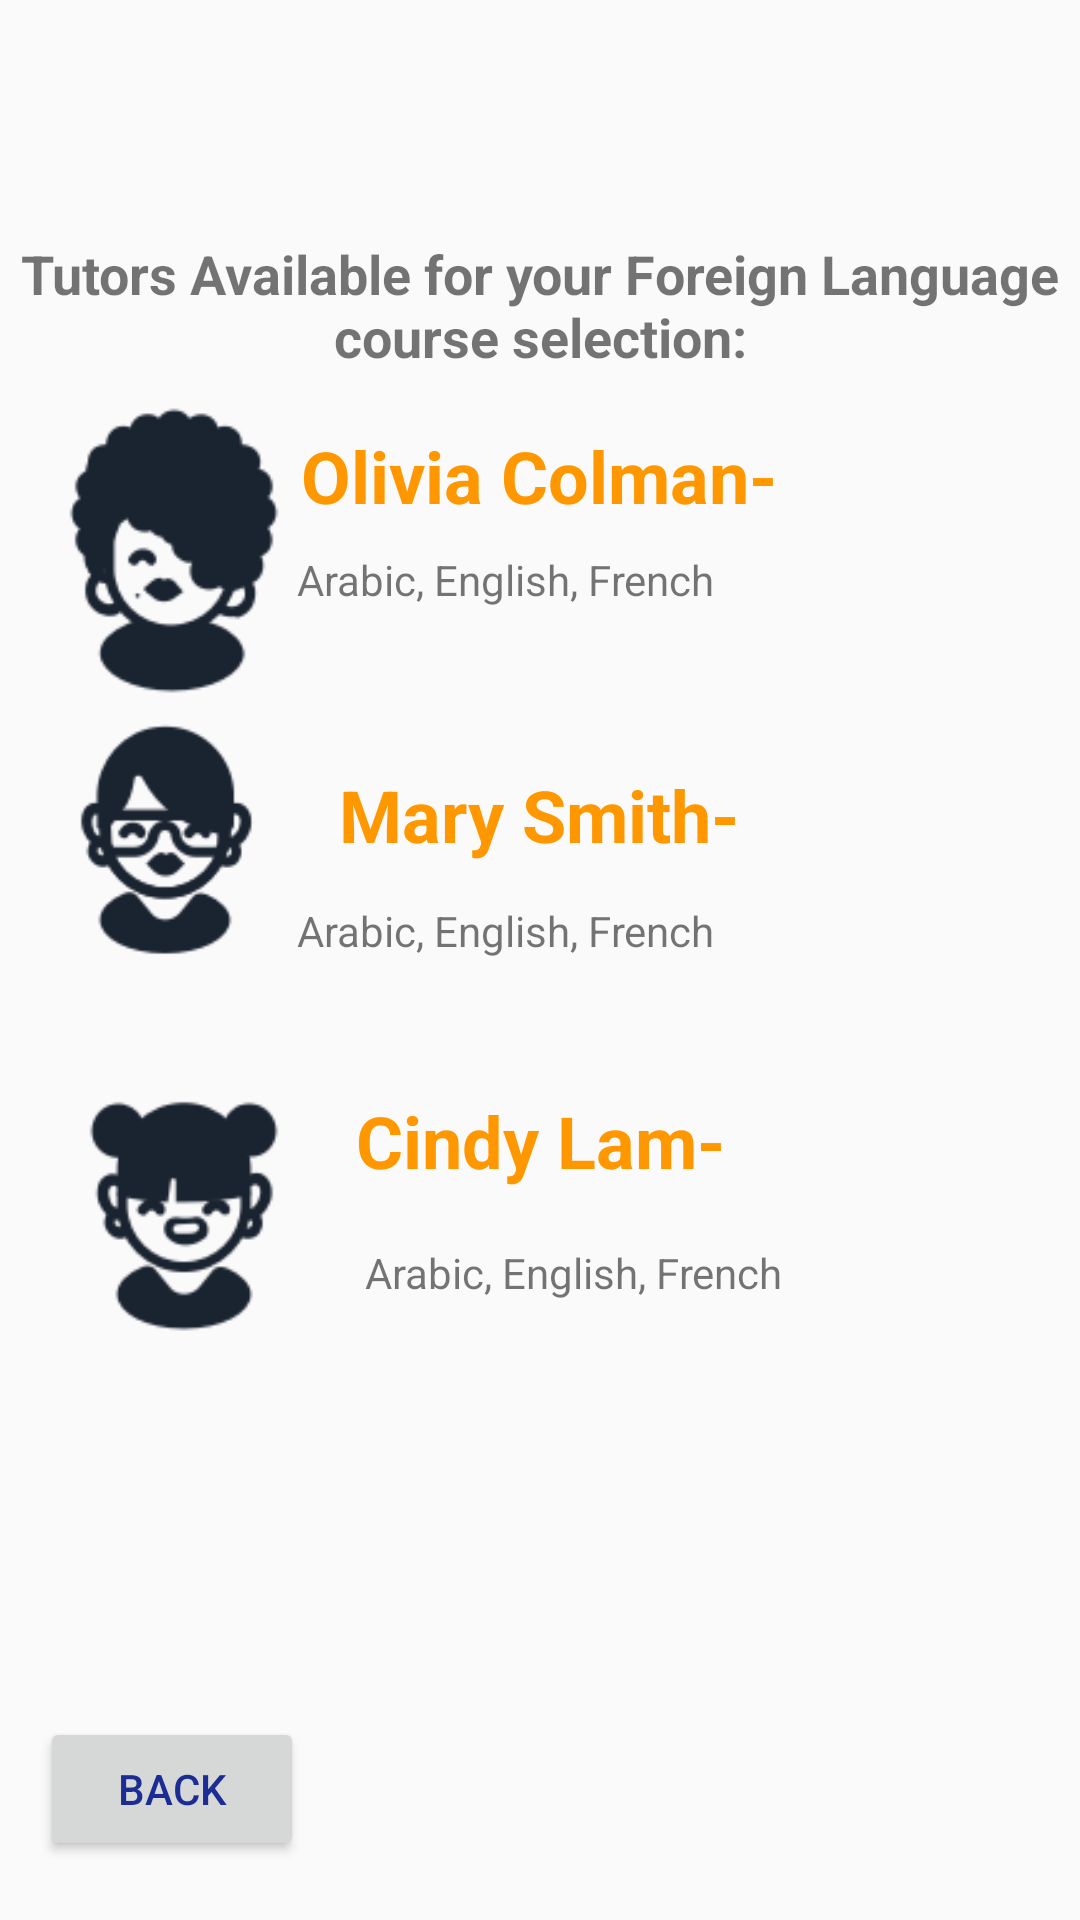

Locate icon controls on the screen. Image size 1080×1920, boxes as (x1, y1, x2, y2).
femalebuns: (90, 1101, 278, 1331)
femaleglasses: (80, 725, 324, 954)
